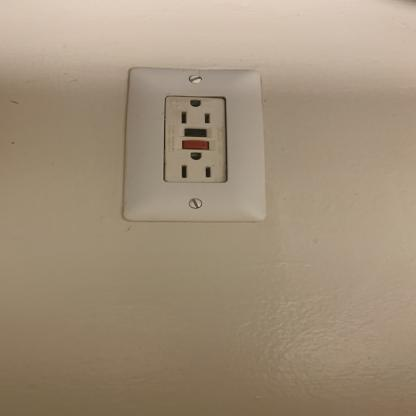OUTLET: (121, 68, 262, 222)
